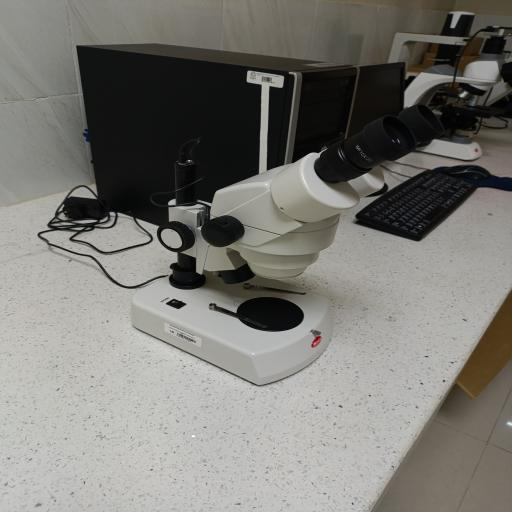Microscopio_estereo: (100, 96, 459, 392)
